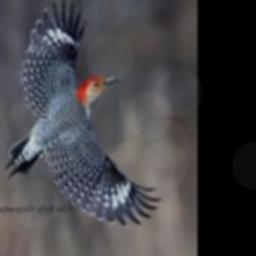Woodpecker: (4, 0, 161, 227)
